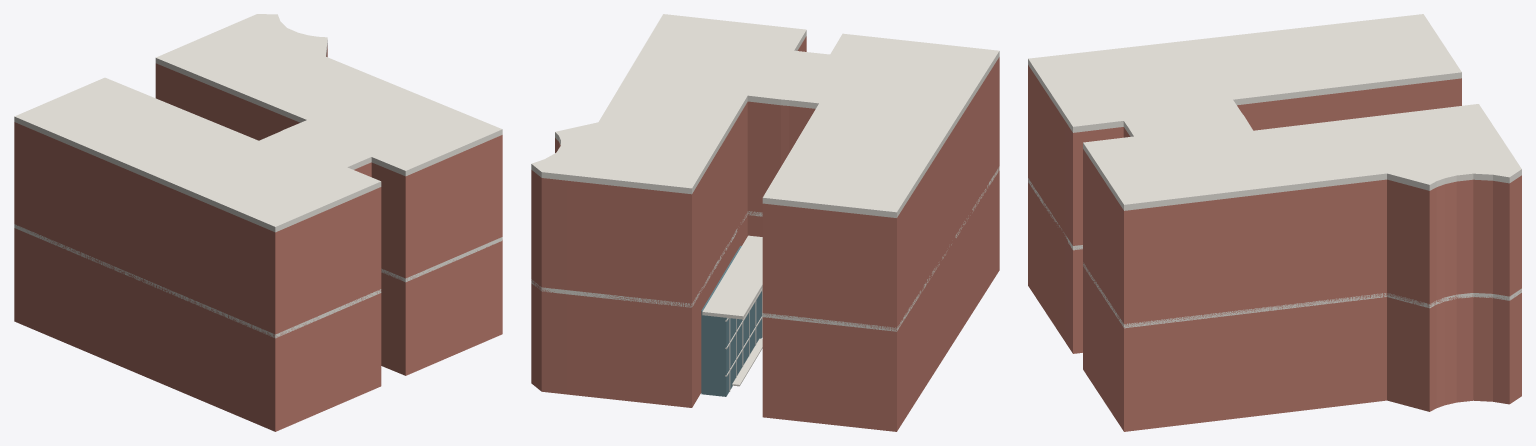
The model's file is industrial.glb.
3 views of the same model, side by side, from view 1: azimuth 30°, elevation 25°; view 2: azimuth 150°, elevation 25°; view 3: azimuth 270°, elevation 25° (orthographic). The views are drawn at different scales.
Parts seen in each view (by area): view 1: IND_mass, IND_parapet, IND_band; view 2: IND_mass, IND_parapet, IND_atrium, IND_canopy, IND_band; view 3: IND_mass, IND_parapet, IND_band.
Part boxes in pixels (bbox=[...]): IND_mass: bbox=[14, 45, 502, 431]; IND_parapet: bbox=[14, 14, 502, 232]; IND_band: bbox=[14, 224, 502, 338]; IND_mass: bbox=[531, 36, 999, 431]; IND_parapet: bbox=[531, 14, 999, 217]; IND_atrium: bbox=[701, 246, 761, 396]; IND_canopy: bbox=[702, 235, 762, 319]; IND_band: bbox=[531, 166, 999, 331]; IND_mass: bbox=[1028, 65, 1521, 431]; IND_parapet: bbox=[1028, 14, 1521, 210]; IND_band: bbox=[1028, 178, 1521, 328].
Bounding box in the file's own units: 47.41 × 26.3 × 51.83.
